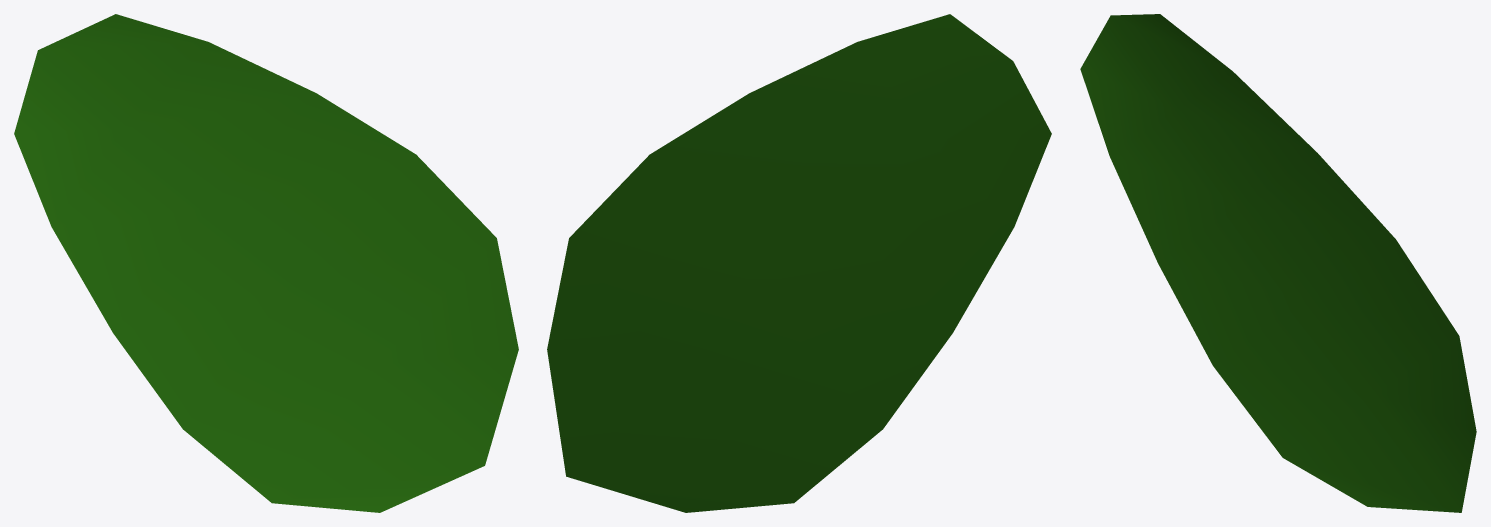
File: lovebird_feather_flight_tertiary_058.001.obj
3 renders of one model, left to right at view 1: azimuth 30°, elevation 25°; view 2: azimuth 150°, elevation 25°; view 3: azimuth 330°, elevation 25°, orthographic. The views are drawn at different scales.
Parts seen in each view (by area): view 1: feather_flight_tertiary_058.001; view 2: feather_flight_tertiary_058.001; view 3: feather_flight_tertiary_058.001.
Boxes of the visible parts, box(x1,y1,x2,y2) form: feather_flight_tertiary_058.001: box(14, 14, 518, 512); feather_flight_tertiary_058.001: box(547, 14, 1051, 512); feather_flight_tertiary_058.001: box(1080, 14, 1476, 512).
Bounding box in the file's own units: 0.0063 × 0.00672 × 0.00016.
